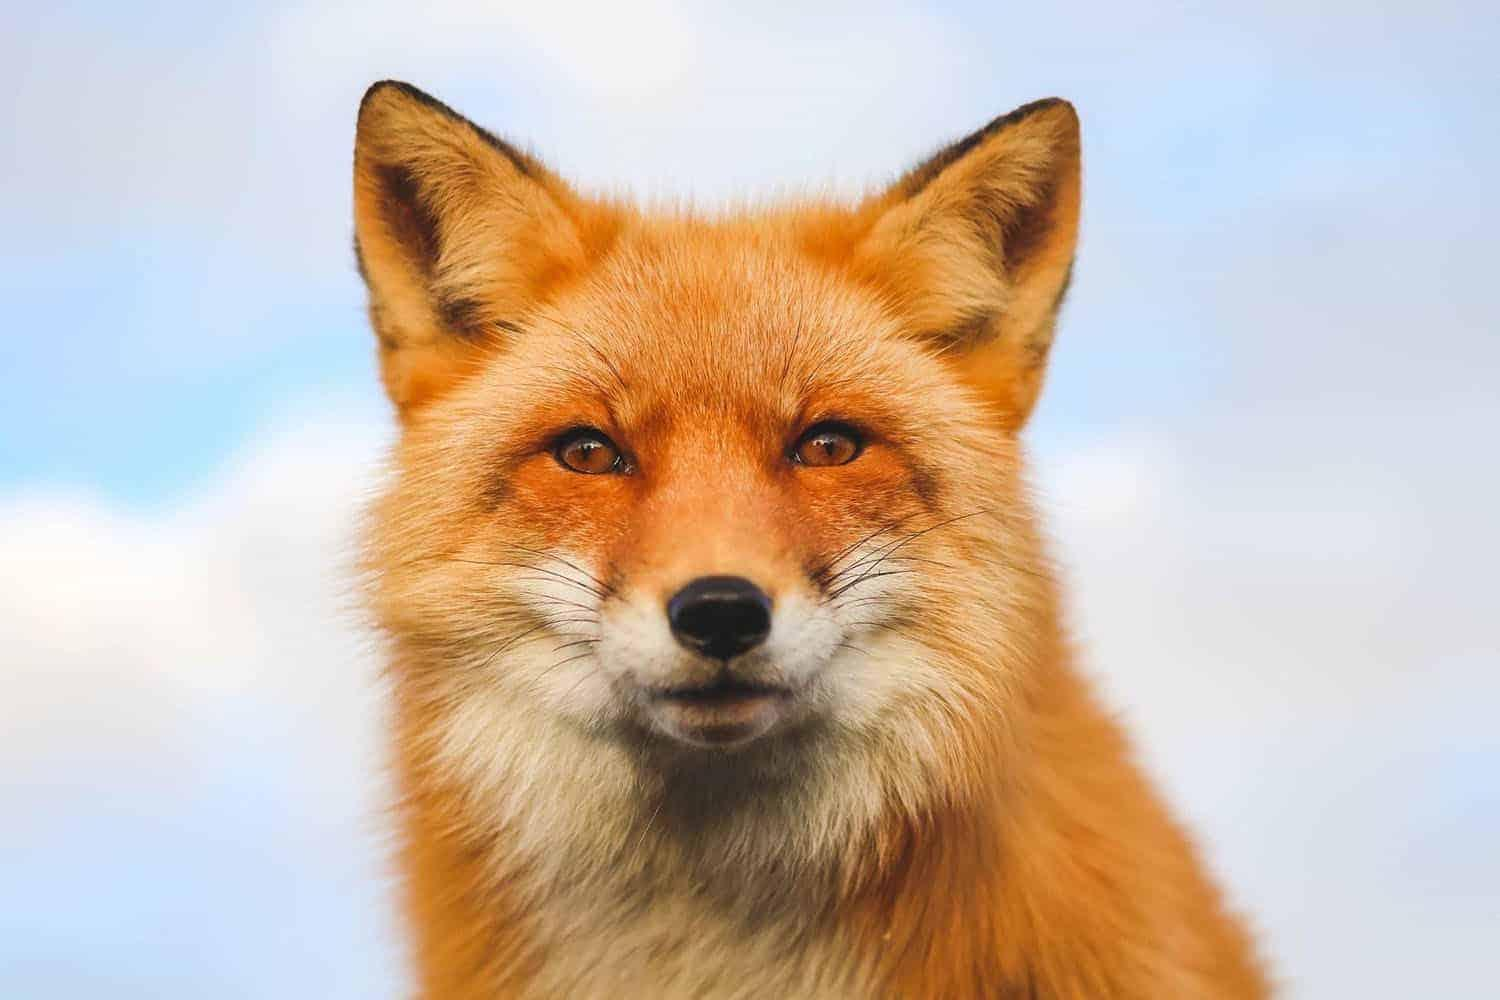fox: (289, 70, 1301, 1000)
